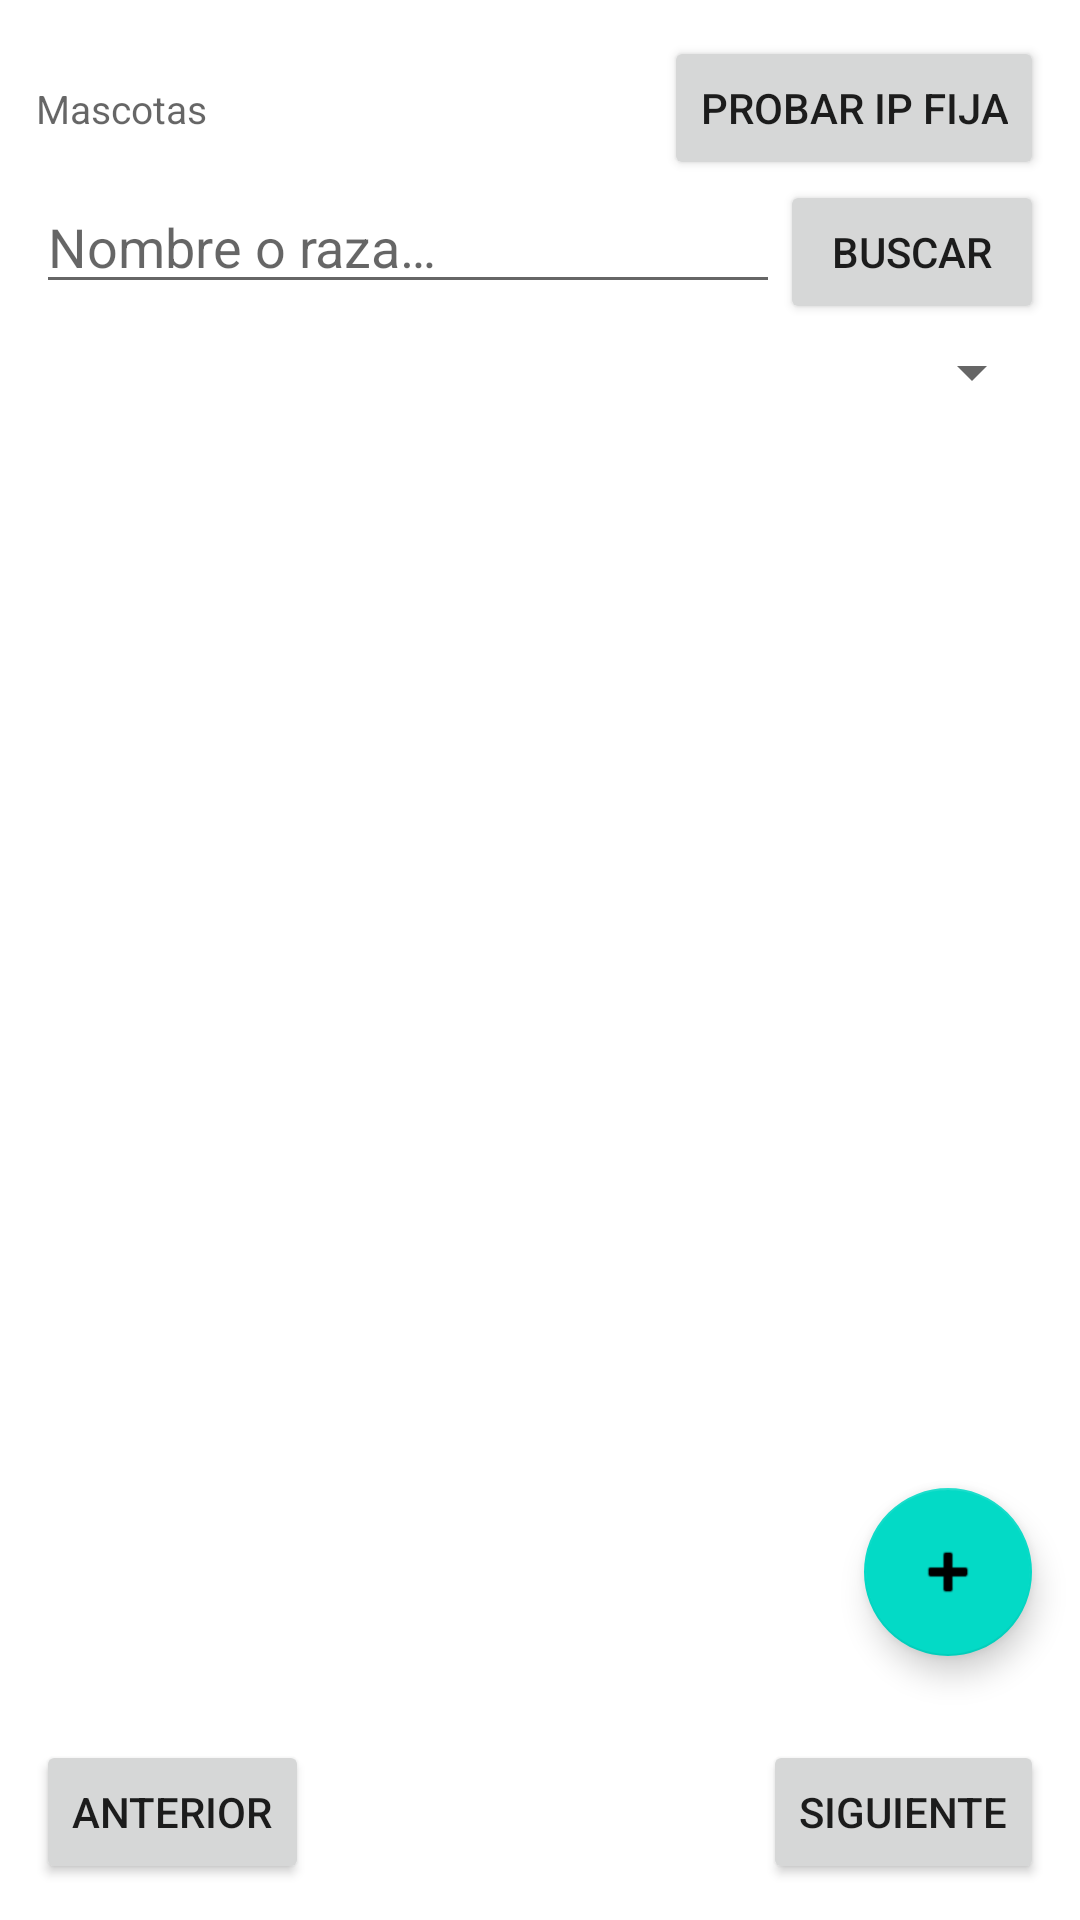

Screen size 1080 × 1920. Icon name, then its center in pixels as [x,y]:
Nueva mascota: [948,1572]
